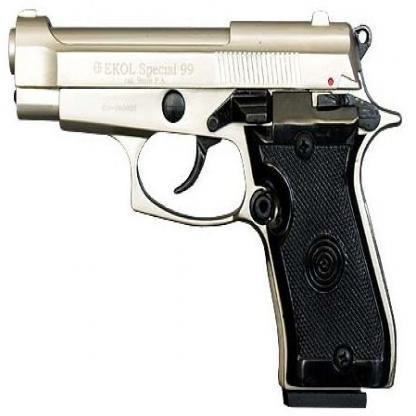gun: (3, 4, 405, 400)
